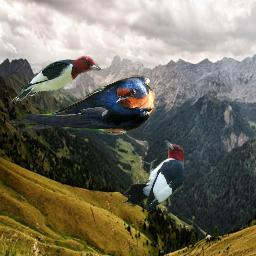Swallow: (7, 75, 156, 135)
Woodpecker: (10, 52, 104, 106), (121, 140, 184, 212)
